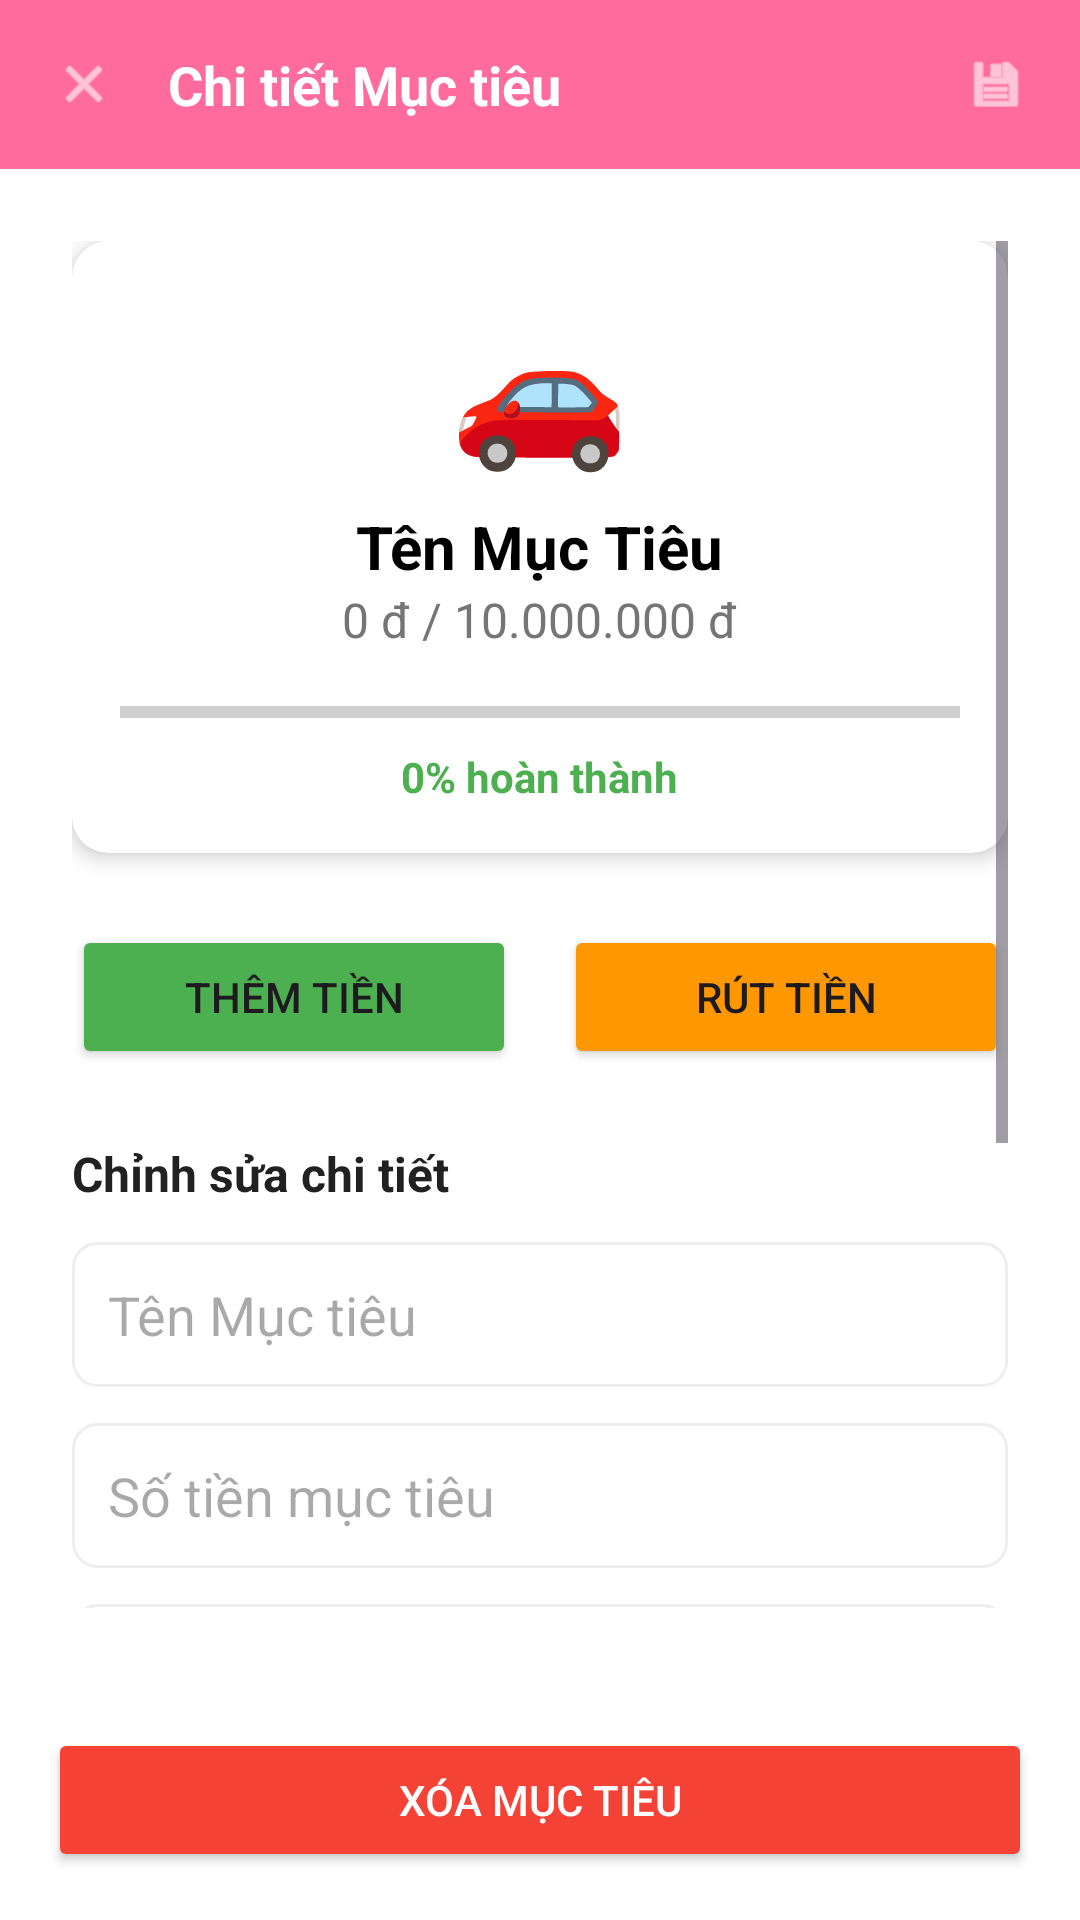

Icon click points for this 1080px×1920px phone screenshot, format [x,y]:
Close: [84,84]
Save: [996,84]
